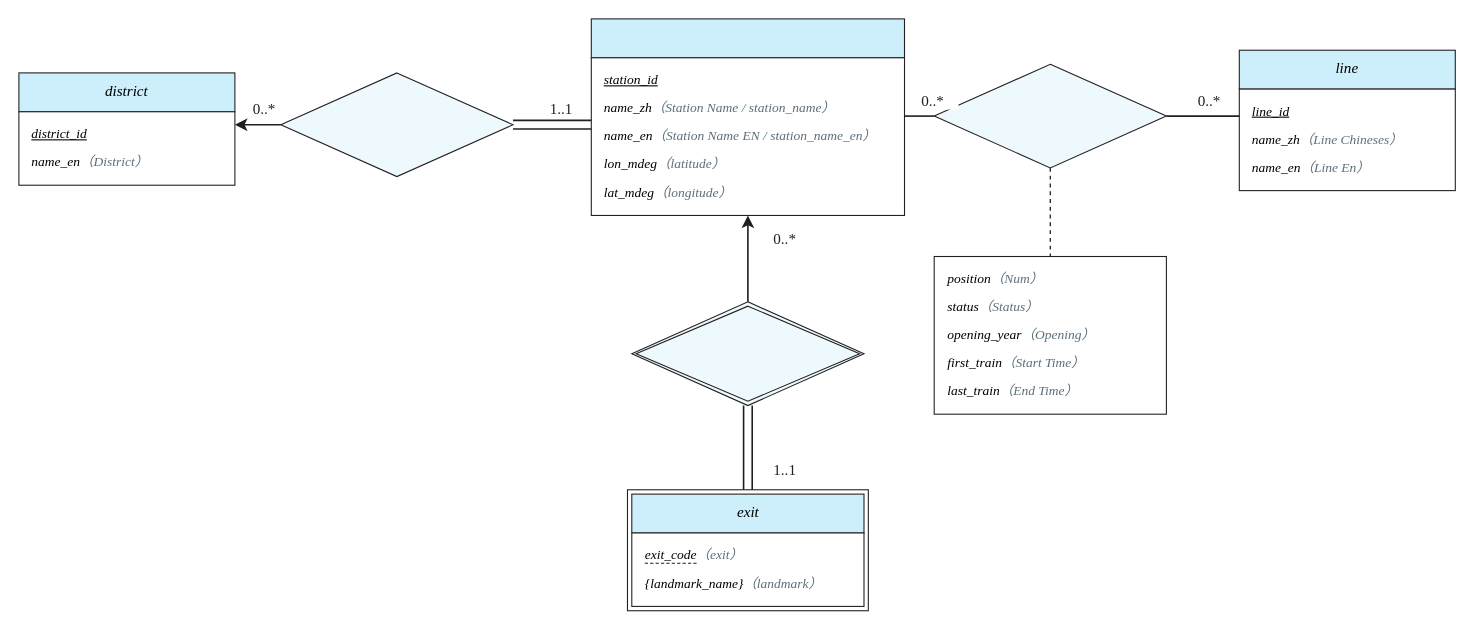
This 1474x630 diagram has some shape labels left out. The shapes that lost their labels are listed below. From the top down, each one's box as (x1, y1, x2, y2) in pixels, then its label:
(590, 18, 905, 58): station
(280, 72, 513, 177): station_district
(933, 63, 1166, 168): line_station
(631, 301, 864, 406): exit_station
